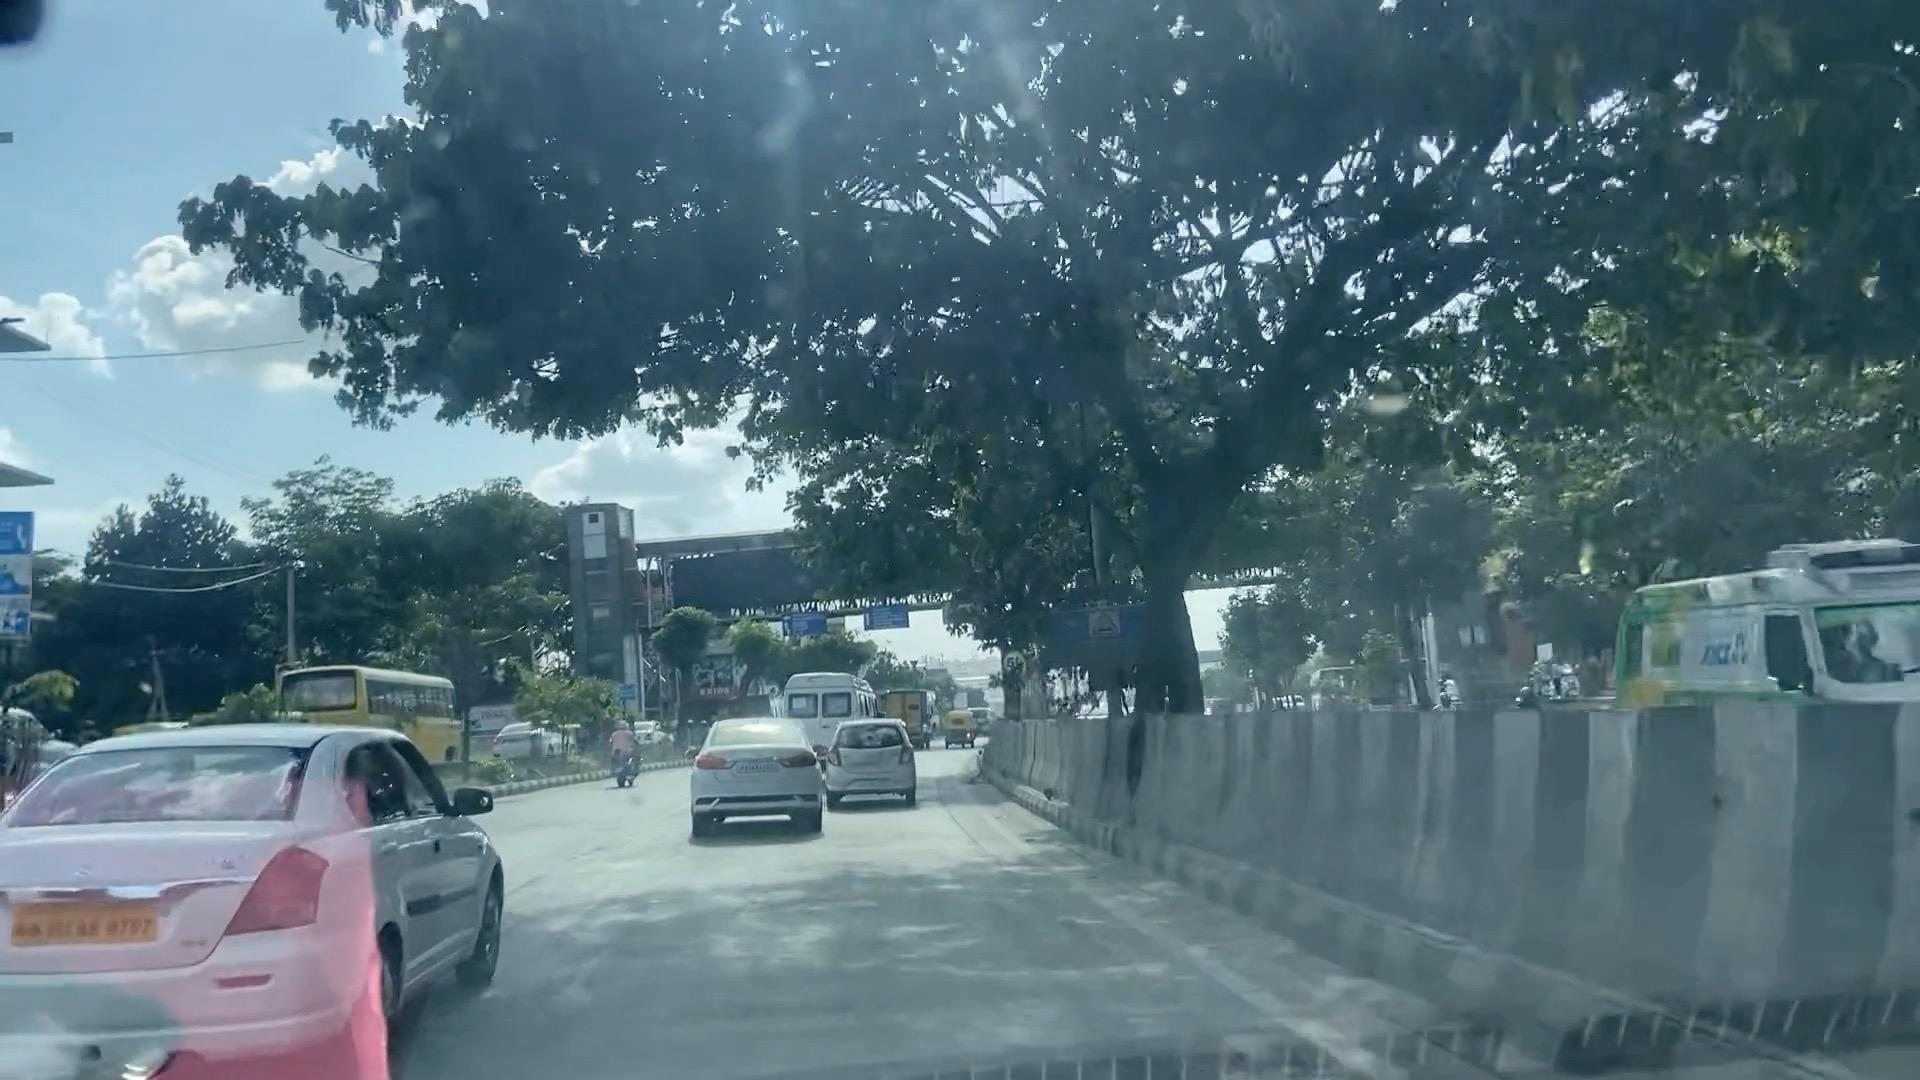LMV: (0, 765, 419, 1080), (687, 708, 823, 840), (835, 717, 920, 812)
